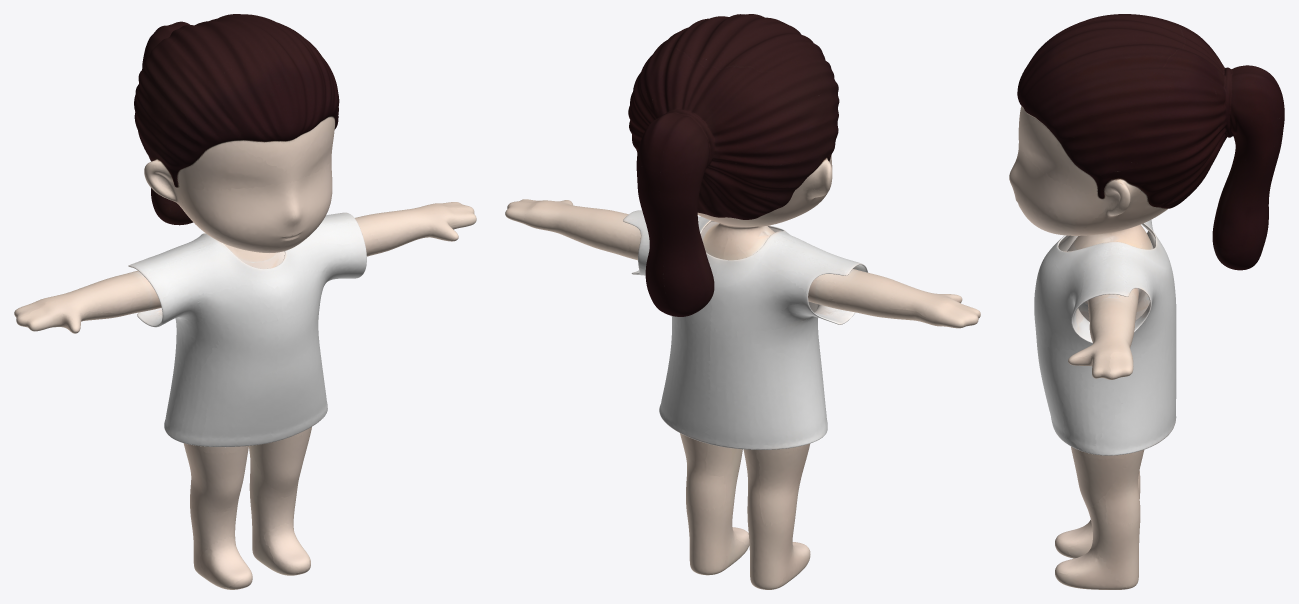
The model's file is baked_nhair_manbun.glb.
3 renders of one model, left to right at view 1: azimuth 30°, elevation 25°; view 2: azimuth 150°, elevation 25°; view 3: azimuth 270°, elevation 25°, orthographic. The views are drawn at different scales.
Bounding box in the file's own units: 1.69 × 1.9 × 0.8711.
Materials: 1 (1 with a texture image).
